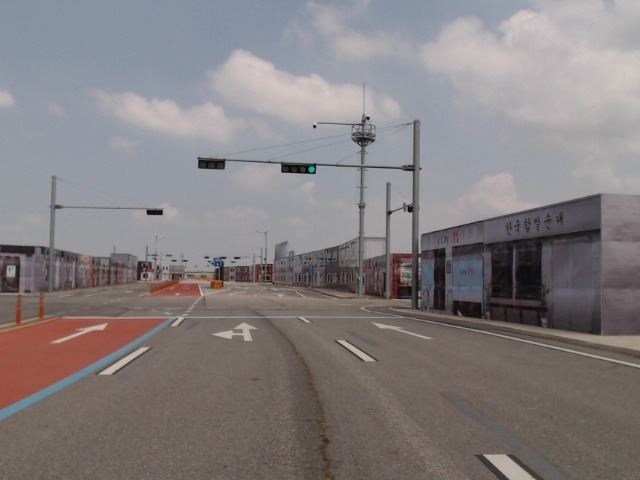straight_green_4: (282, 163, 317, 175)
